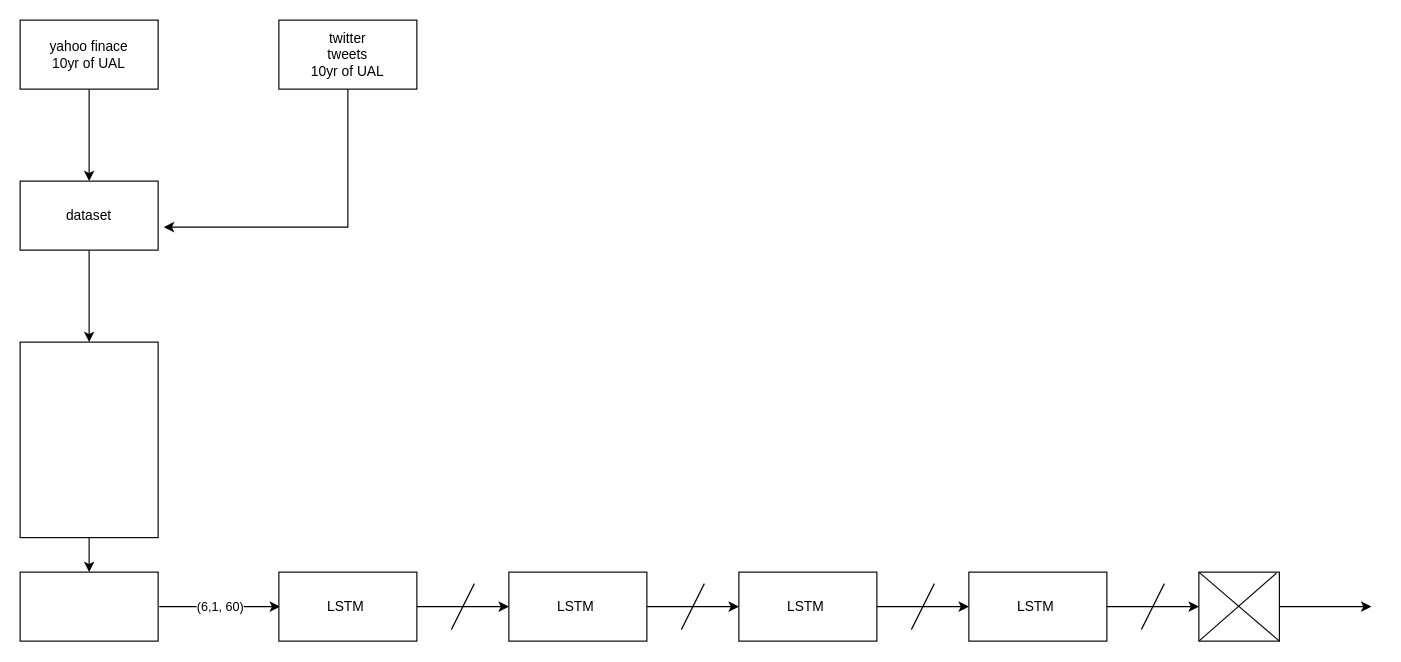
Some shapes in this 1401 by 662 pixel diagram are drawn without their labels. Each missing label, with the box of its shape:
close open min max 1 yr prev value sent: (19, 341, 158, 538)
min max normal: (19, 571, 158, 641)
